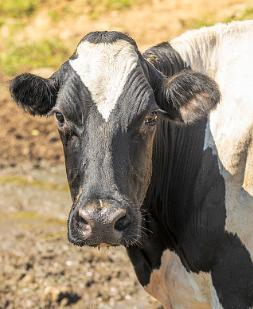cow: (8, 20, 253, 309)
